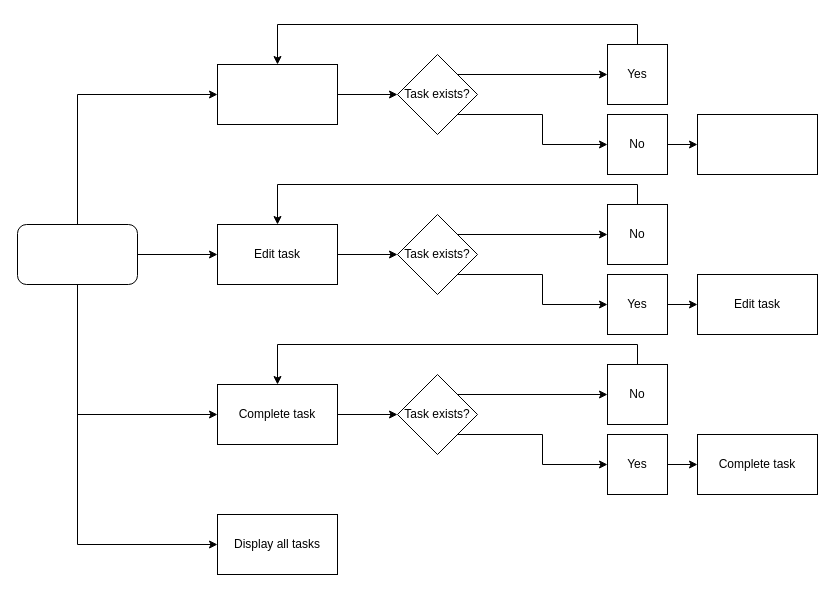
Image size: 835x592. Some labels were removed from this diagram. The shapes that lost their labels are listed below. From the top down, each one's centre as x and y in pixels, then its label:
At point (277, 94): "Create task".
At point (757, 144): "Add task".
At point (77, 254): "Start".
